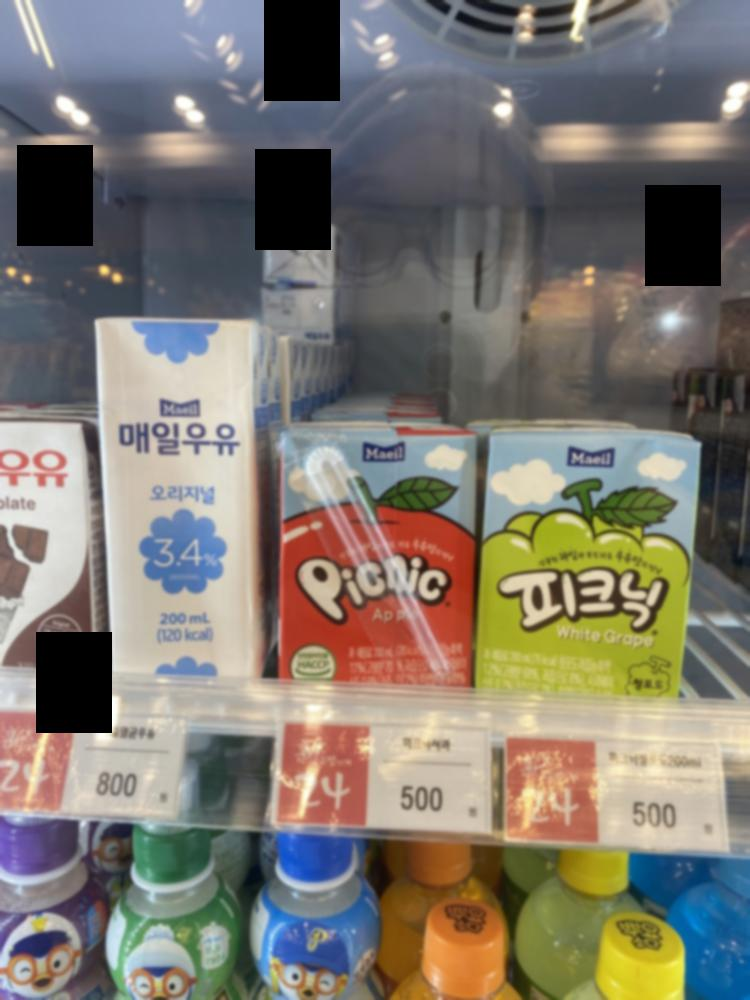picnic_apple: (266, 403, 476, 704)
